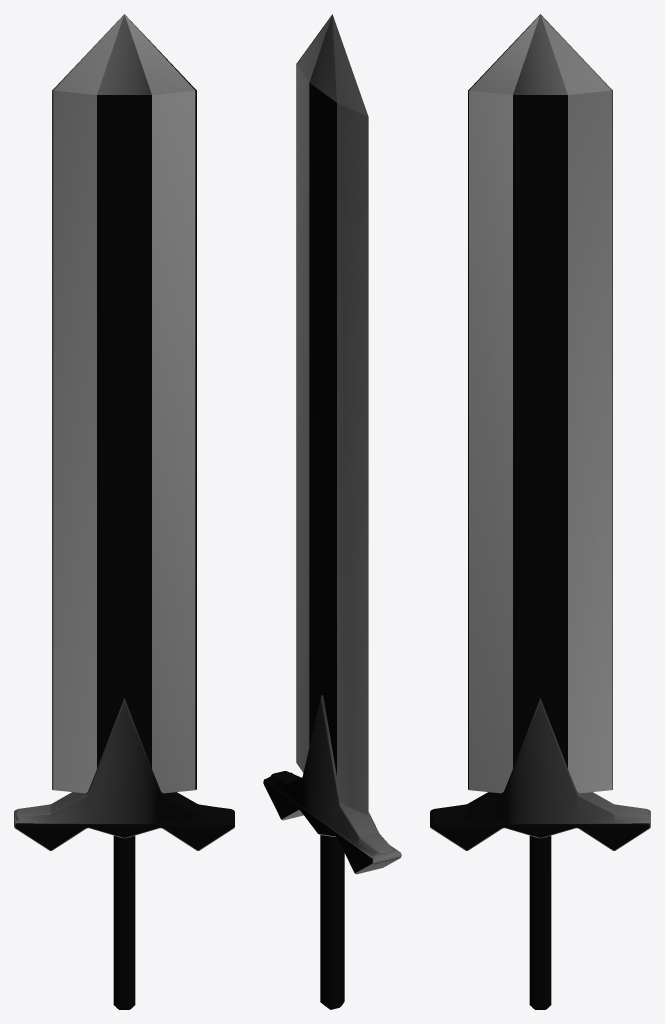
The model's file is LargeSword.fbx.
3 views of the same model, side by side, from view 1: azimuth 90°, elevation 25°; view 2: azimuth 210°, elevation 25°; view 3: azimuth 270°, elevation 25° (orthographic).
Parts seen in each view (by area): view 1: pCube6, pCube5, pCube4; view 2: pCube6, pCube5, pCube4; view 3: pCube6, pCube5, pCube4.
Boxes of the visible parts, x1,y1,x2,y2 form: pCube6: (52, 14, 196, 793); pCube5: (14, 698, 234, 850); pCube4: (113, 835, 135, 1009); pCube6: (296, 14, 368, 815); pCube5: (263, 695, 401, 874); pCube4: (320, 835, 344, 1009); pCube6: (468, 14, 612, 793); pCube5: (430, 698, 650, 850); pCube4: (529, 835, 551, 1009).
Size of the model in its own units: 7.99 by 261 by 52.53.
1 material, 1 textured.
